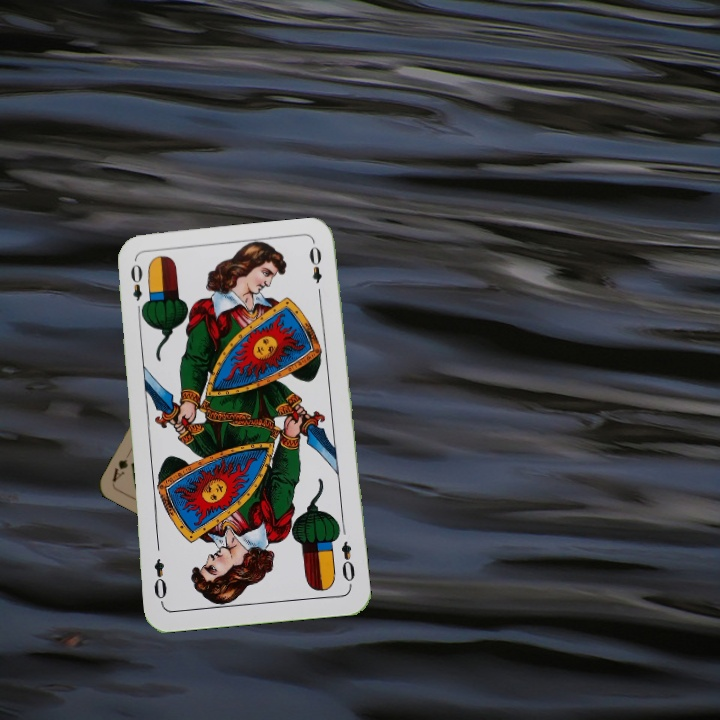EO: (126, 260, 149, 318), (337, 537, 358, 589)
